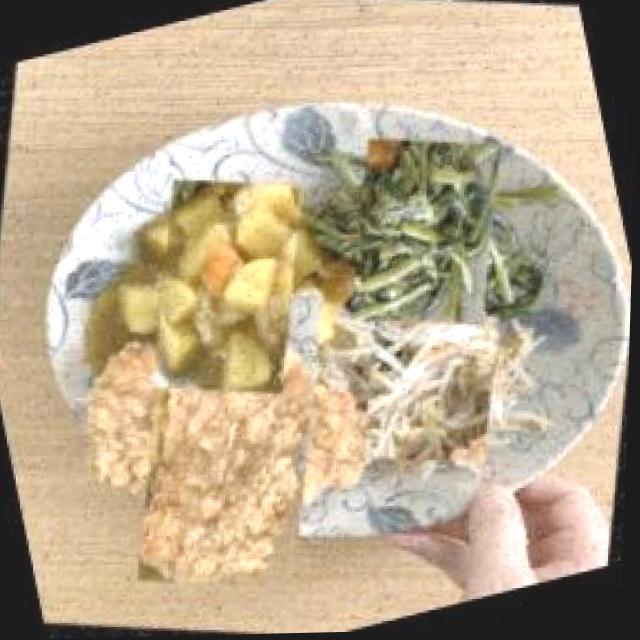curry: (98, 159, 357, 416)
fried_chicken: (58, 268, 404, 612)
mung_bean_sprouts: (328, 286, 536, 492)
water_spinach: (307, 113, 547, 353)
